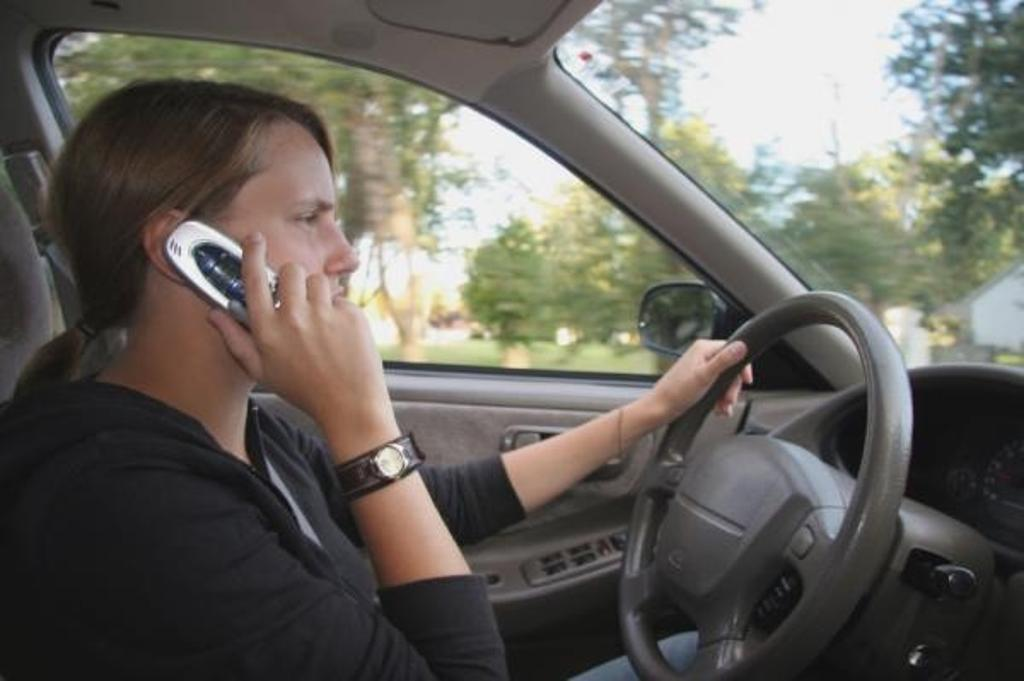face: (204, 118, 358, 360)
